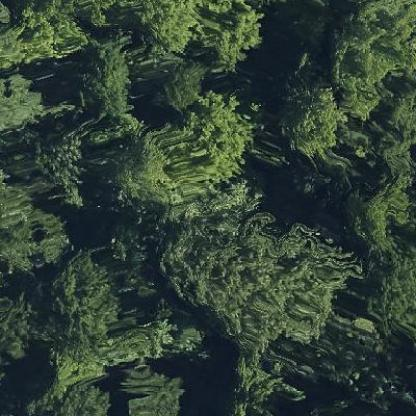tree-top: (159, 206, 347, 352), (132, 94, 244, 193), (0, 3, 89, 69), (280, 79, 340, 160), (0, 275, 38, 367), (118, 367, 187, 415), (0, 68, 45, 140)
